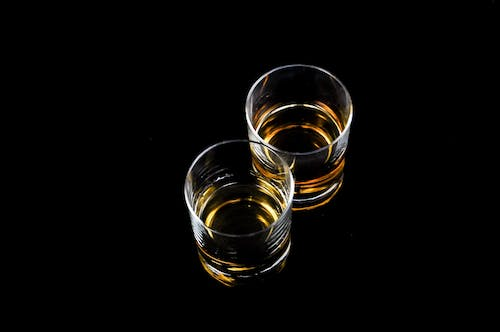alcohol: (183, 138, 296, 290), (244, 63, 355, 212)
